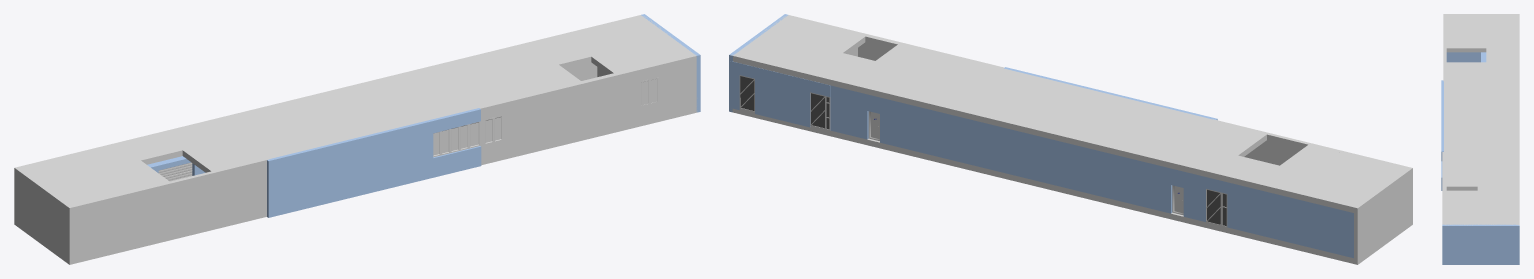
The model's file is Floor_4.fbx.
3 views of the same model, side by side, from view 1: azimuth 30°, elevation 25°; view 2: azimuth 150°, elevation 25°; view 3: azimuth 270°, elevation 25° (orthographic). The views are drawn at different scales.
Parts seen in each view (by area): view 1: Cube.003, стены наружа.001, стены наружа, стена 2-3-4 эатжи стойка, Cube.048, крыша над актовым, Cube.097, Cube.028, Cube.002, Cube.033, стеклышко.001, Cube.016 (+1 smaller); view 2: Cube.003, Cube.022, Cube.016, Cube.085, Cube.048, Cube.021, стены наружа, стены наружа.001, стена 2-3-4 эатжи стойка; view 3: Cube.003, Cube.002, Cube.016, стены наружа, Cube.085, стена 2-3-4 эатжи стойка, стены наружа.001, Cube.048, крыша над актовым, Cube.028.
Boxes of the visible parts, x1,y1,x2,y2 form: Cube.003: (16, 15, 695, 207); стены наружа.001: (480, 55, 697, 165); стены наружа: (71, 157, 269, 263); стена 2-3-4 эатжи стойка: (267, 119, 433, 217); Cube.048: (14, 167, 73, 264); крыша над актовым: (273, 108, 480, 174); Cube.097: (433, 121, 480, 157); Cube.028: (433, 146, 481, 177); Cube.002: (641, 14, 700, 112); Cube.033: (484, 115, 502, 144); стеклышко.001: (158, 162, 192, 181); Cube.016: (147, 156, 205, 175); Cube.003: (731, 15, 1410, 213); Cube.022: (830, 85, 1205, 221); Cube.016: (730, 61, 1353, 258); Cube.085: (731, 108, 1356, 264); Cube.048: (1354, 167, 1412, 264); Cube.021: (739, 75, 1227, 227); стены наружа: (1211, 119, 1408, 167); стены наружа.001: (788, 15, 1004, 68); стена 2-3-4 эатжи стойка: (1052, 78, 1217, 120); Cube.003: (1444, 14, 1519, 225); Cube.002: (1442, 224, 1519, 264); Cube.016: (1446, 52, 1486, 62); стены наружа: (1443, 15, 1446, 81); Cube.085: (1446, 190, 1477, 197); стена 2-3-4 эатжи стойка: (1441, 80, 1443, 161); стены наружа.001: (1442, 152, 1443, 224); Cube.048: (1443, 14, 1519, 14); крыша над актовым: (1441, 135, 1443, 159); Cube.028: (1441, 161, 1442, 190).
Bounding box in the file's own units: 32788 × 2824 × 5130.
